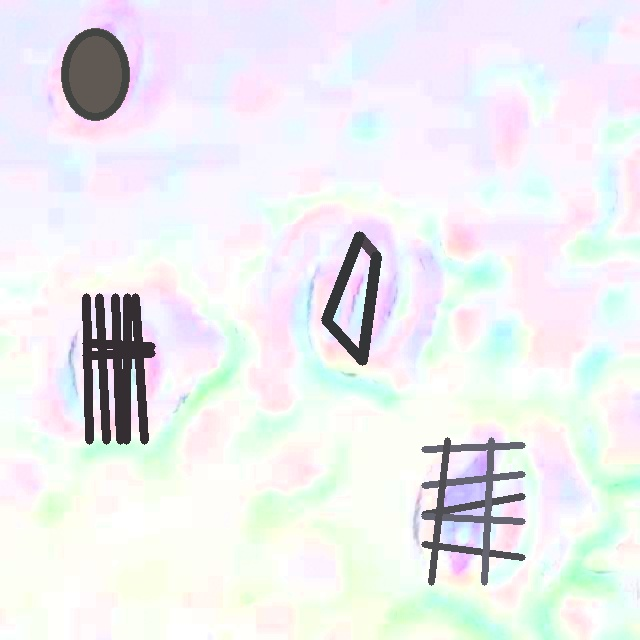close: (82, 293, 155, 444), (322, 231, 381, 364)
open: (421, 438, 524, 585), (61, 27, 129, 120)
